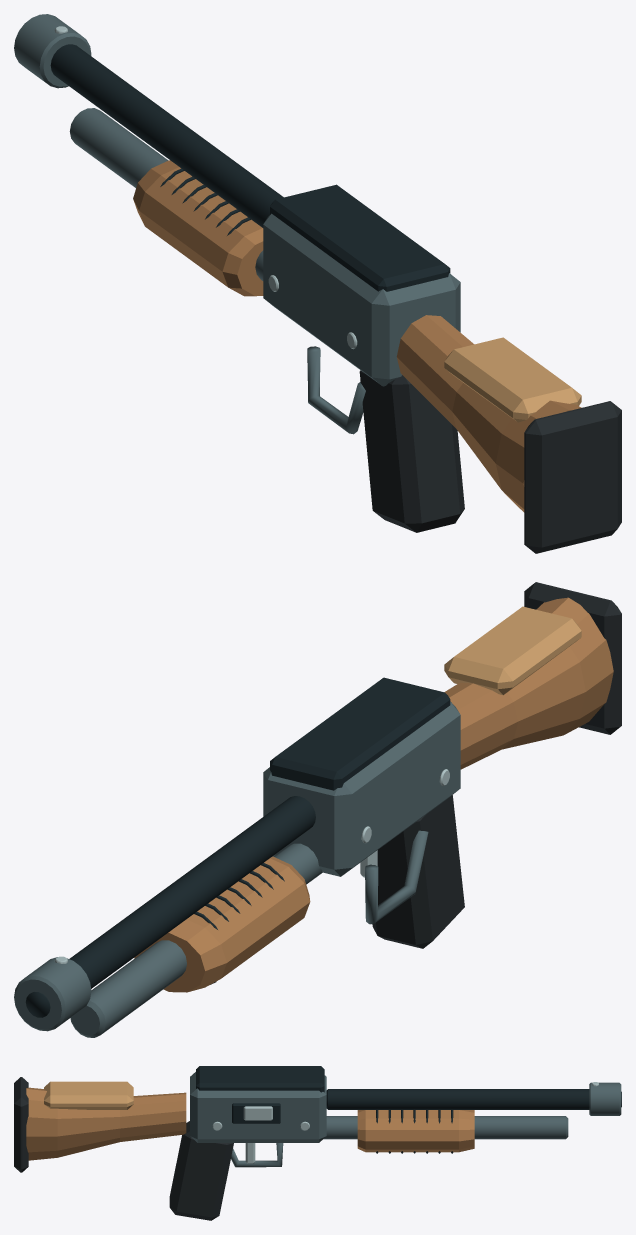
The model's file is pump-shotgun.glb.
3 views of the same model, one above another, from view 1: azimuth 30°, elevation 25°; view 2: azimuth 150°, elevation 25°; view 3: azimuth 270°, elevation 25° (orthographic). The views are drawn at different scales.
Visible parts, largest first — view 1: Beveled receiver.001, Rubber butt pad.001, Textured pistol grip.001, Sculpted shoulder stock.001, Barrel.001, Upper receiver spine.001, Oiled wood fore-end, Cheek rest.001, Magazine tube, Muzzle shoulder.001, Trigger guard.001; view 2: Beveled receiver.001, Sculpted shoulder stock.001, Barrel.001, Upper receiver spine.001, Oiled wood fore-end, Textured pistol grip.001, Cheek rest.001, Magazine tube, Rubber butt pad.001, Muzzle shoulder.001, Trigger guard.001; view 3: Sculpted shoulder stock.001, Beveled receiver.001, Barrel.001, Oiled wood fore-end, Textured pistol grip.001, Upper receiver spine.001, Magazine tube, Cheek rest.001, Rubber butt pad.001, Muzzle shoulder.001, Ejection recess.001, Trigger guard.001 (+1 smaller).
Boxes of the visible parts, x1,y1,x2,y2 form: Beveled receiver.001: (263, 213, 460, 386); Rubber butt pad.001: (524, 401, 621, 553); Textured pistol grip.001: (359, 370, 464, 532); Sculpted shoulder stock.001: (396, 315, 581, 512); Barrel.001: (50, 44, 283, 227); Upper receiver spine.001: (270, 184, 450, 291); Oiled wood fore-end: (133, 160, 263, 296); Cheek rest.001: (444, 337, 581, 422); Magazine tube: (69, 108, 263, 280); Muzzle shoulder.001: (14, 14, 91, 88); Trigger guard.001: (307, 346, 365, 434); Beveled receiver.001: (263, 701, 460, 876); Sculpted shoulder stock.001: (444, 597, 613, 769); Barrel.001: (69, 796, 315, 988); Upper receiver spine.001: (270, 677, 450, 790); Oiled wood fore-end: (134, 856, 310, 992); Textured pistol grip.001: (372, 795, 464, 948); Cheek rest.001: (444, 606, 581, 695); Magazine tube: (70, 843, 322, 1037); Rubber butt pad.001: (524, 582, 621, 734); Muzzle shoulder.001: (14, 957, 91, 1031); Trigger guard.001: (365, 830, 428, 924); Sculpted shoulder stock.001: (26, 1087, 186, 1160); Beveled receiver.001: (190, 1072, 326, 1142); Barrel.001: (326, 1089, 589, 1109); Oiled wood fore-end: (357, 1110, 474, 1152); Textured pistol grip.001: (169, 1121, 233, 1220); Upper receiver spine.001: (196, 1066, 324, 1092); Magazine tube: (323, 1116, 568, 1139); Cheek rest.001: (44, 1081, 133, 1109); Rubber butt pad.001: (14, 1077, 28, 1172); Muzzle shoulder.001: (589, 1082, 621, 1115); Ejection recess.001: (232, 1103, 280, 1123); Trigger guard.001: (231, 1143, 283, 1167).
Bounding box in the file's own units: 0.1675 × 0.3994 × 1.56.
